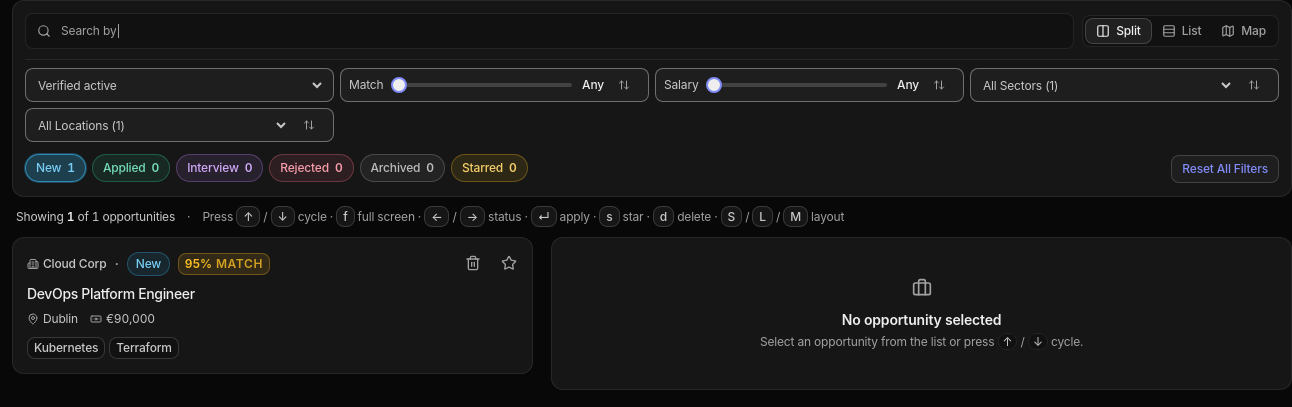
JobsView Search Input › displays two arrows when nothing is clicked and toggles match sort direction on click
The width and height of the screenshot is (1292, 407).
Expected: the 1st icon with class "lucide-arrow-up-down" is shown, [618,79,630,91]
// First click: activates match sort (descending for highest match first)
Click the button named "sort by match score" at (624, 85), box [608,69,640,101]
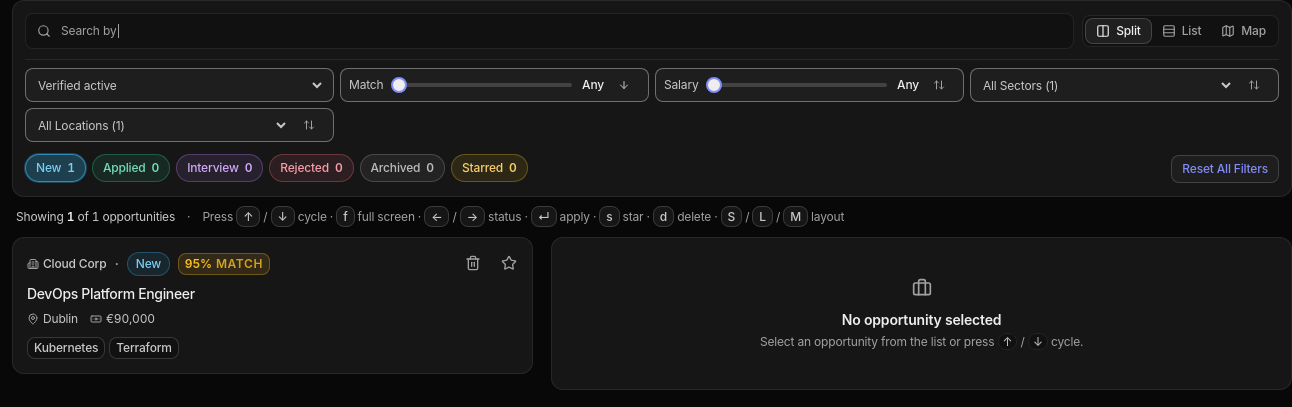
Expected: the icon with class "lucide-arrow-down" is shown, [618,79,630,91]
// Second click: toggles direction to ascending (lowest match first)
Click the button named "sort by match score" at (624, 85), box [608,69,640,101]
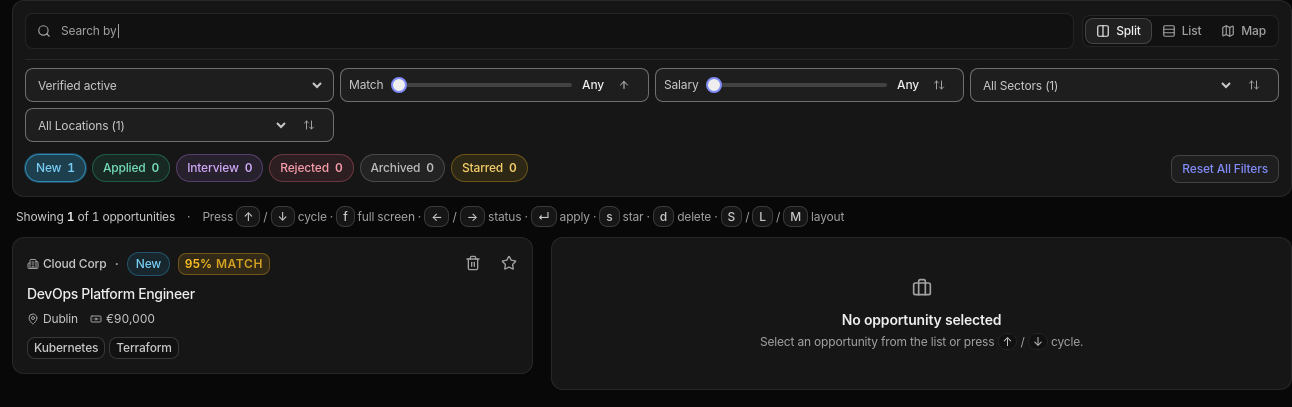
Expected: the icon with class "lucide-arrow-down" is gone
Expected: the icon with class "lucide-arrow-up" is shown, [618,79,630,91]
// Third click: toggles direction back to descending
Click the button named "sort by match score" at (624, 85), box [608,69,640,101]
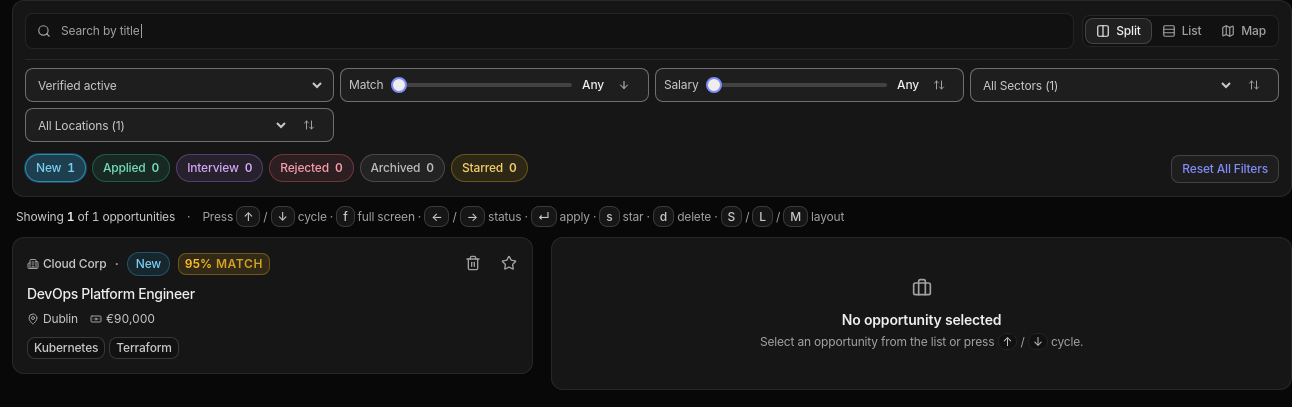
Expected: the icon with class "lucide-arrow-down" is shown, [618,79,630,91]
